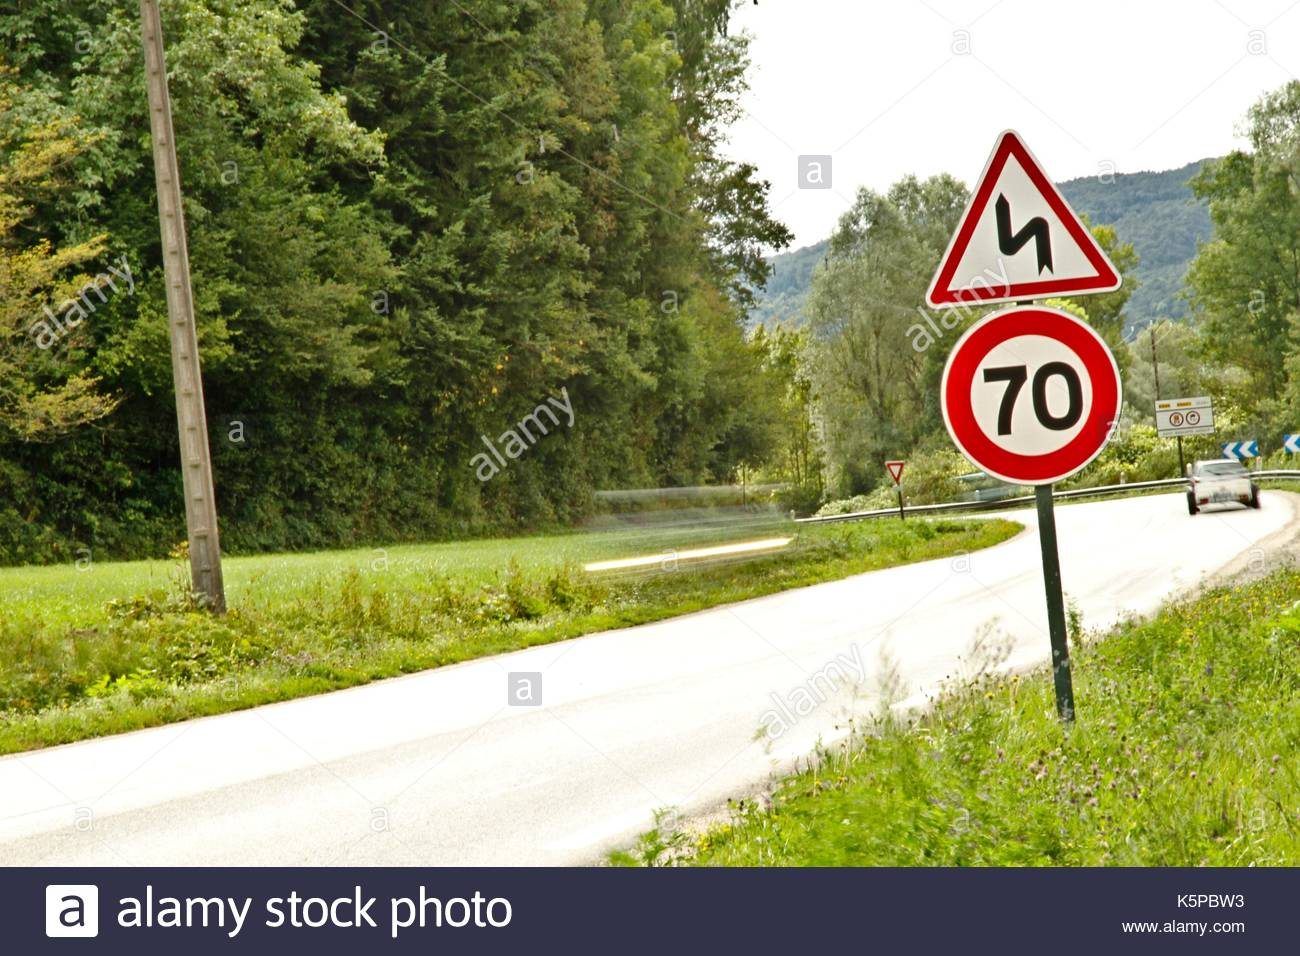speed_limit_70: (939, 308, 1124, 479)
